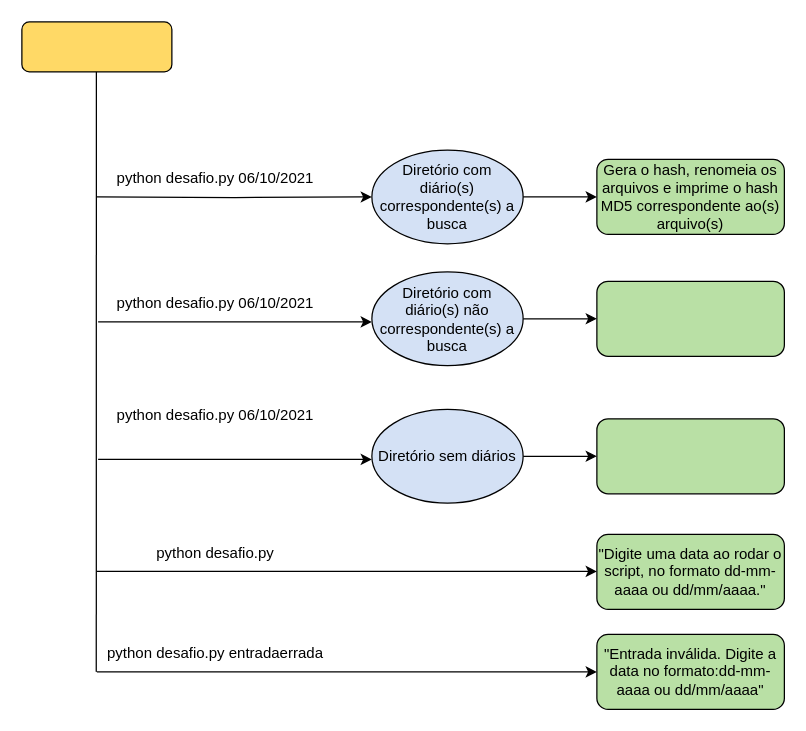
Some shapes in this 806 by 731 pixel diagram are drawn without their labels. Here are the shapes that lost their labels. From the top down, the box of each, then its label:
(21, 21, 172, 72): Entrada:
(596, 280, 784, 356): "Não existem diários oficiais baixados correspondentes com a data buscada."
(596, 418, 784, 494): "Não há diários oficiais baixados neste diretório"
